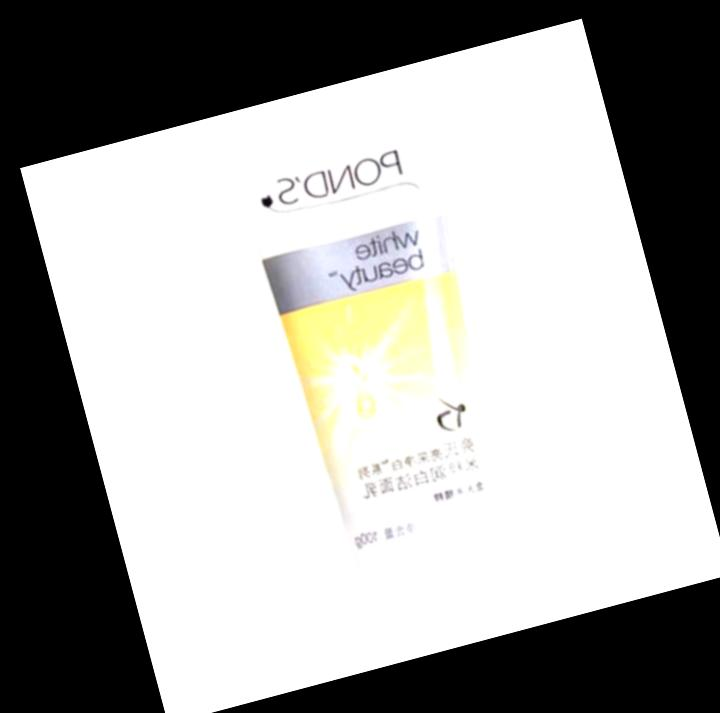cosmetic: (216, 85, 565, 654)
